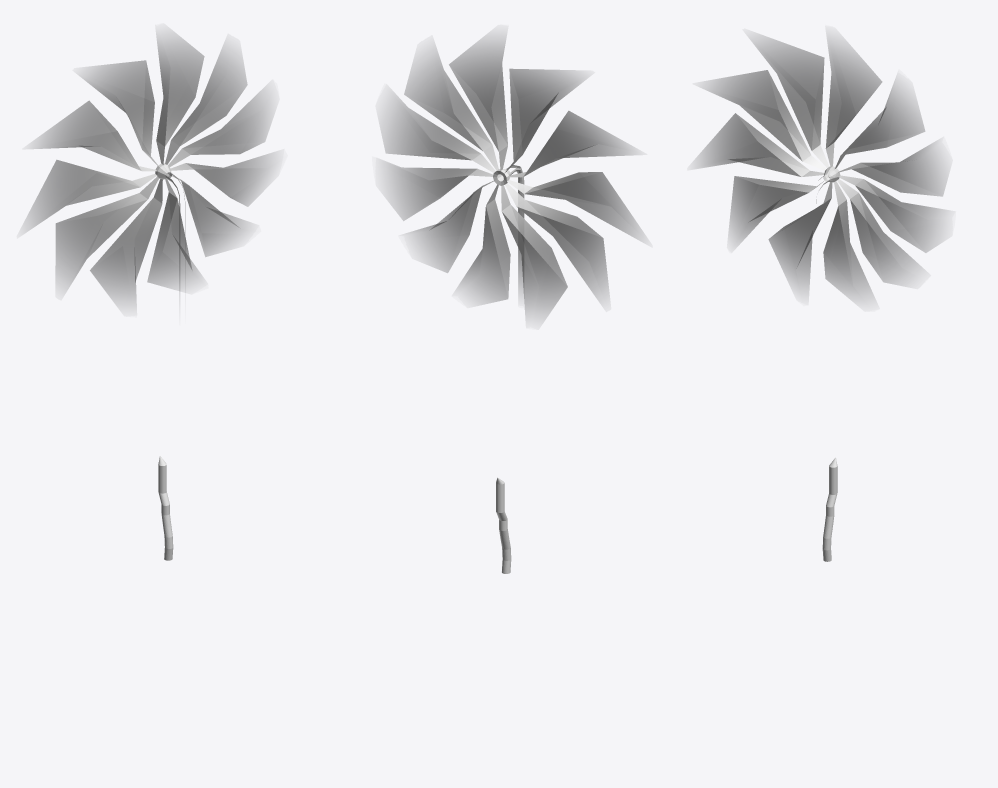
The model's file is fire_wind_stick.glb.
The picture shows the model from 3 angles, left to right: view 1: azimuth 30°, elevation 25°; view 2: azimuth 150°, elevation 25°; view 3: azimuth 330°, elevation 25°; orthographic projection. The views are drawn at different scales.
Visible parts, largest first — view 1: Cube, Cone; view 2: Cube, Cone; view 3: Cube, Cone.
Part boxes in pixels (x1,y1,x2,y2): Cube: [24, 33, 273, 304]; Cone: [158, 456, 173, 560]; Cube: [381, 36, 642, 318]; Cone: [496, 477, 511, 573]; Cube: [696, 35, 946, 300]; Cone: [822, 457, 837, 561].
Size of what is drawn, in the model's own units: 6.93 by 16.44 by 0.9954.
Materials: 1 (1 with a texture image).
